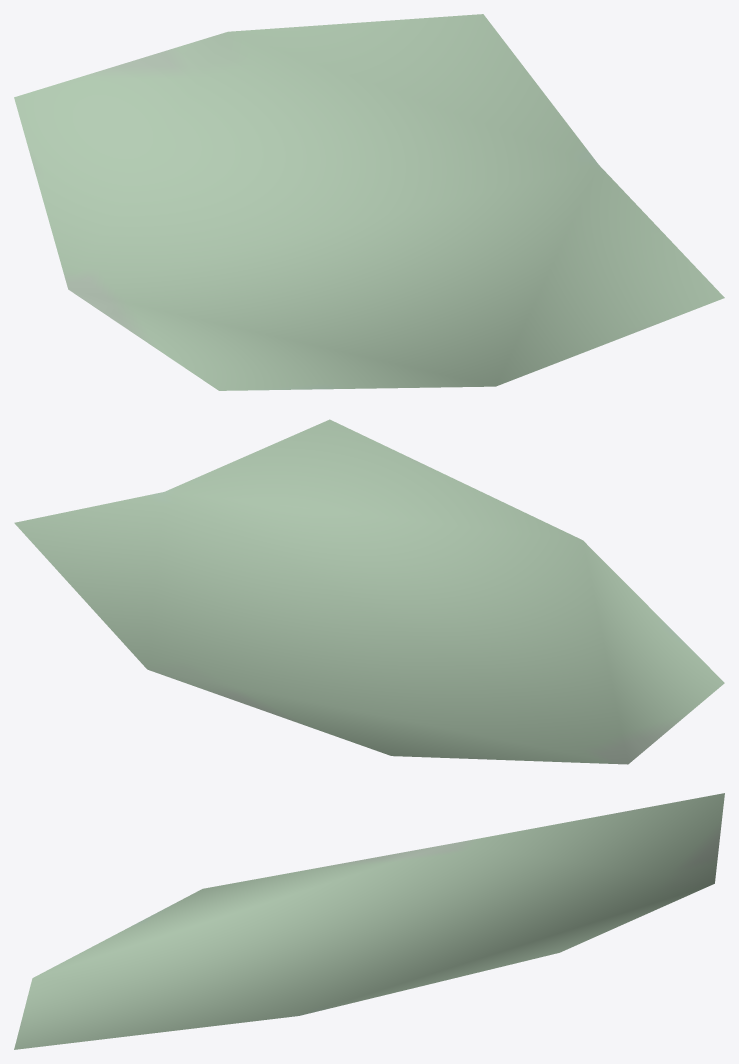
File: TROLLHOLE02_HOLECAP180.fbx
The picture shows the model from 3 angles, top to bottom: view 1: azimuth 30°, elevation 25°; view 2: azimuth 150°, elevation 25°; view 3: azimuth 270°, elevation 25°; orthographic projection. The views are drawn at different scales.
Visible parts, largest first — view 1: TROLLHOLE02_HOLECAP180; view 2: TROLLHOLE02_HOLECAP180; view 3: TROLLHOLE02_HOLECAP180.
Boxes of the visible parts, bbox=[...] form: TROLLHOLE02_HOLECAP180: bbox=[14, 14, 724, 390]; TROLLHOLE02_HOLECAP180: bbox=[14, 419, 724, 764]; TROLLHOLE02_HOLECAP180: bbox=[14, 793, 724, 1049].
Bounding box in the file's own units: 23836 × 7378 × 29274.
Materials: 1 (1 with a texture image).
